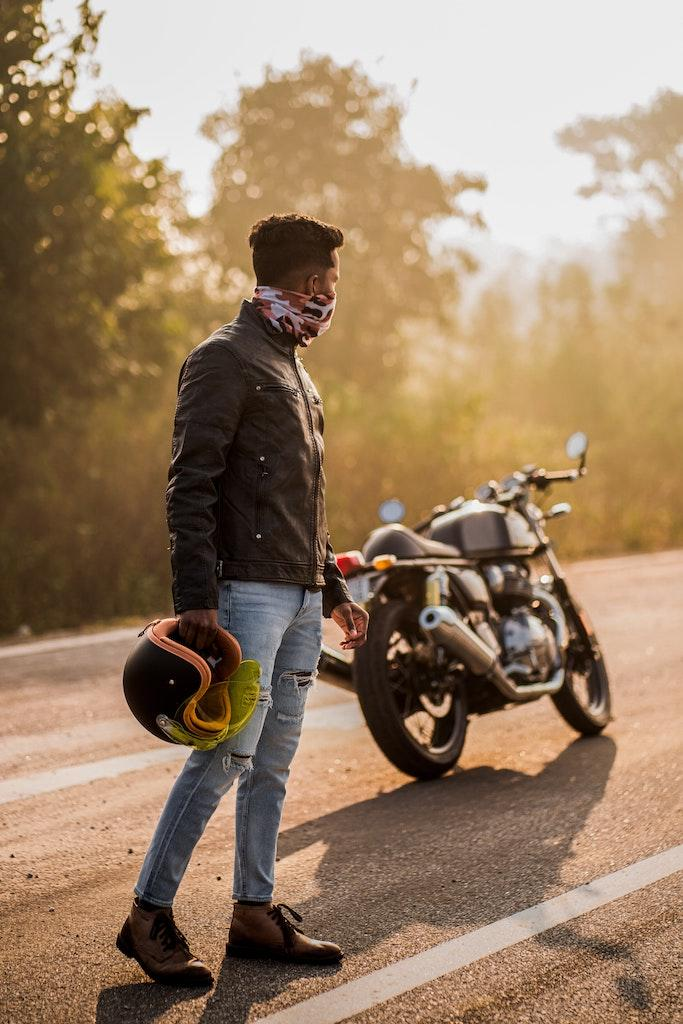helmet: (122, 614, 264, 753)
nohelmet: (246, 211, 347, 349)
